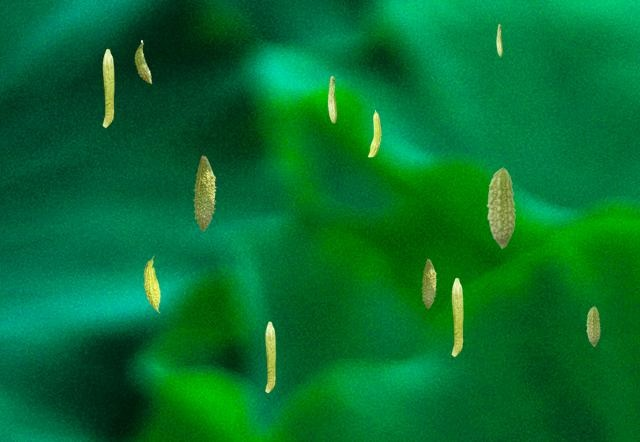ampalaya: (486, 167, 516, 249), (192, 155, 217, 231), (143, 255, 160, 313), (451, 277, 463, 357), (102, 48, 114, 128), (421, 258, 437, 309), (134, 39, 152, 84), (265, 321, 276, 393), (367, 109, 381, 157), (586, 305, 600, 347), (327, 75, 337, 123), (496, 23, 502, 56)
